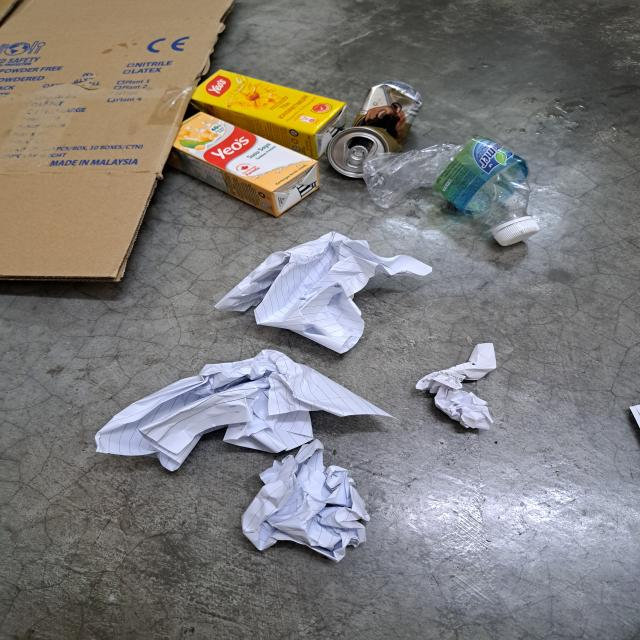can: (331, 77, 421, 178)
cardboard: (0, 0, 238, 282)
drink carton: (169, 111, 322, 216), (191, 66, 347, 157)
paper: (97, 345, 397, 467), (206, 229, 437, 354), (239, 438, 367, 562), (414, 342, 497, 432), (626, 399, 640, 447)
plastic bottle: (362, 132, 542, 248)
plastic bottle cap: (491, 213, 544, 250)
pop tab: (346, 144, 370, 167)
